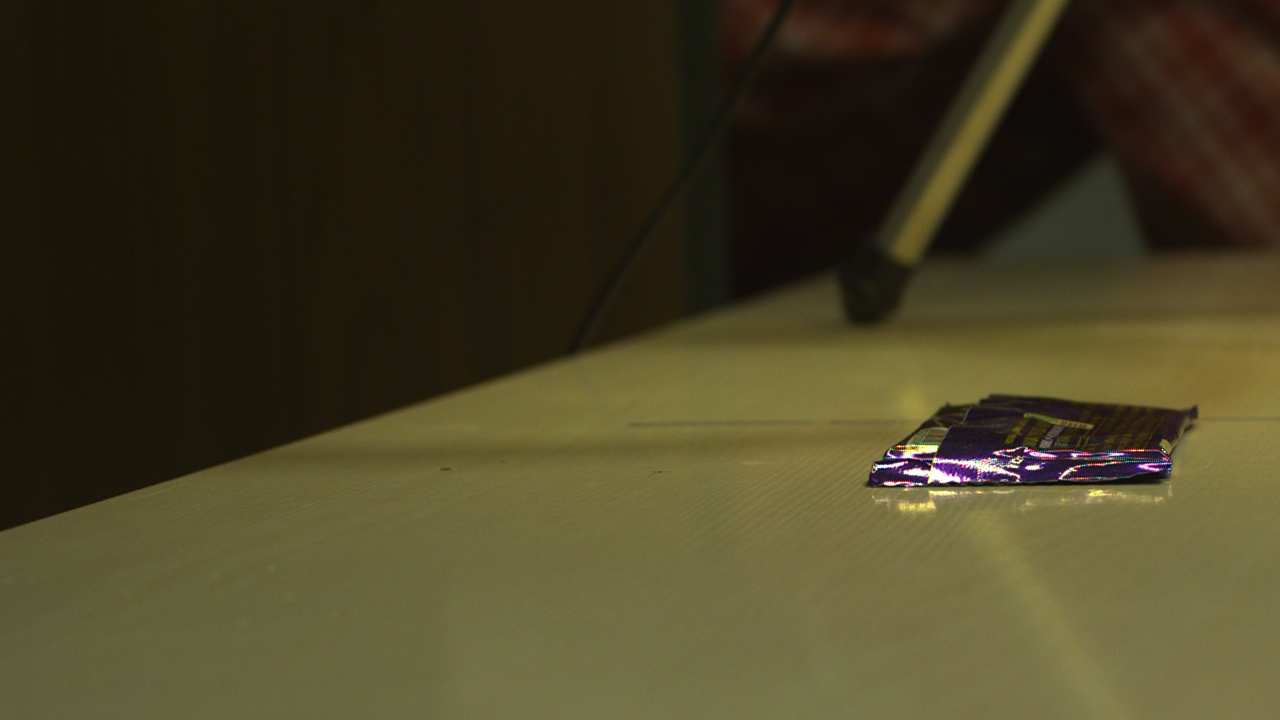Good: (881, 449, 1166, 491)
